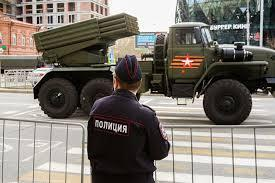MIL_SAM_TEL: (28, 13, 273, 125)
